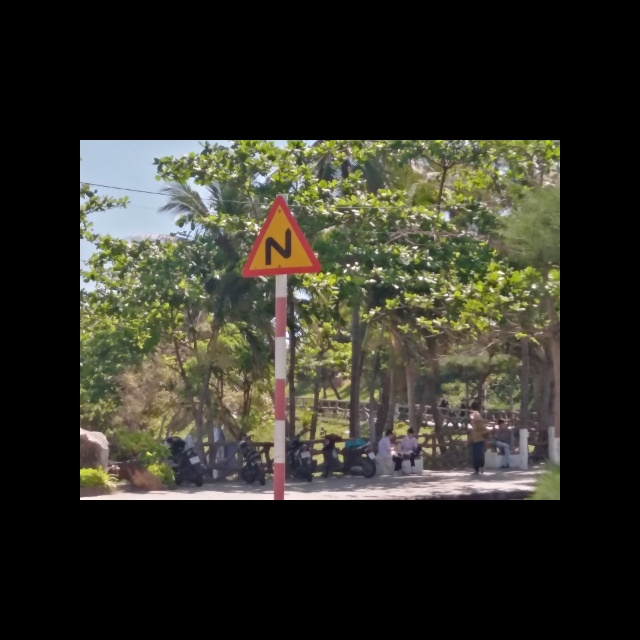Ngoặt nguy hiểm liên tiếp bên phải: (243, 194, 325, 280)
